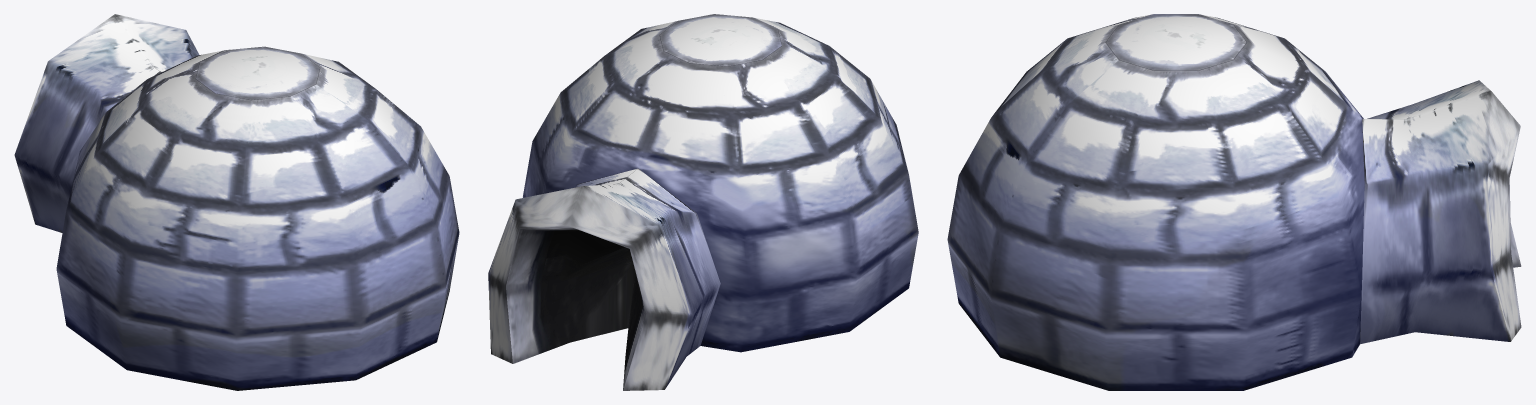
Rendered from world2_house_fbx.fbx.
The picture shows the model from 3 angles, left to right: view 1: azimuth 30°, elevation 25°; view 2: azimuth 150°, elevation 25°; view 3: azimuth 270°, elevation 25°; orthographic projection. The views are drawn at different scales.
Parts seen in each view (by area): view 1: ig:iglo1; view 2: ig:iglo1; view 3: ig:iglo1.
Boxes of the visible parts, x1=… form: ig:iglo1: x1=14, y1=14, x2=459, y2=390; ig:iglo1: x1=488, y1=14, x2=918, y2=390; ig:iglo1: x1=947, y1=14, x2=1521, y2=390.
Size of what is drawn, in the model's own units: 68.01 by 46.81 by 89.75.
